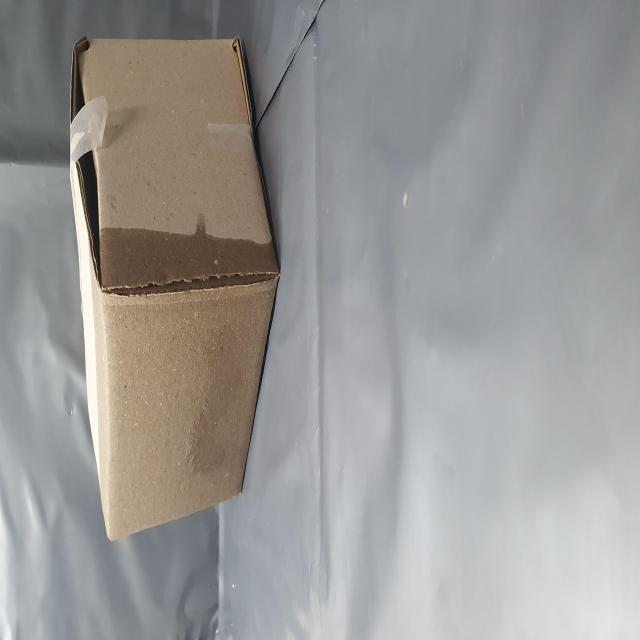wet: (175, 183, 238, 482)
